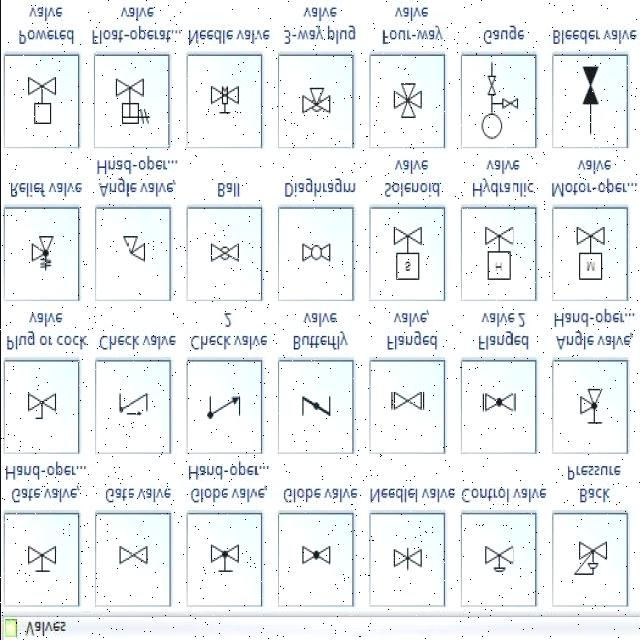3 Way Gate Valve: (294, 74, 346, 122)
4 Way Gate Valve: (380, 76, 430, 130)
Angle Valve: (110, 227, 148, 278)
BackPressure Regulator: (568, 535, 612, 590)
Ball Valve: (202, 235, 253, 277), (294, 237, 332, 274)
Bleeder Valve: (569, 56, 614, 146)
Butterfly Valve: (296, 381, 346, 435)
Check Valve: (110, 384, 156, 429), (196, 390, 247, 429)
Cock Valve: (19, 383, 62, 428)
Flanged: (382, 376, 430, 425)
Flanged Globe: (470, 379, 522, 424)
Float Operated Valve: (107, 69, 154, 141)
Gate Valve: (110, 536, 157, 574)
Gauge: (477, 62, 521, 144)
Globe Valve: (289, 540, 335, 575)
Hand Operated Angle Valve: (566, 378, 610, 433)
Hand Operated Gate Valve: (22, 537, 64, 586)
Hand Operated Globe Valve: (198, 537, 248, 583)
Hydraulic Operated Gate Valve: (472, 221, 518, 290)
Motor Operated Gate Valve: (568, 226, 608, 288)
Needle Valve: (382, 536, 436, 578), (202, 78, 242, 118)
Pneumatic-Diaphragm Gate Valve: (477, 536, 522, 587)
Powered Gate Valve: (16, 68, 62, 130)
Relief Valve: (22, 224, 59, 282)
Solenoid Operated Gate Valve: (383, 220, 427, 287)
